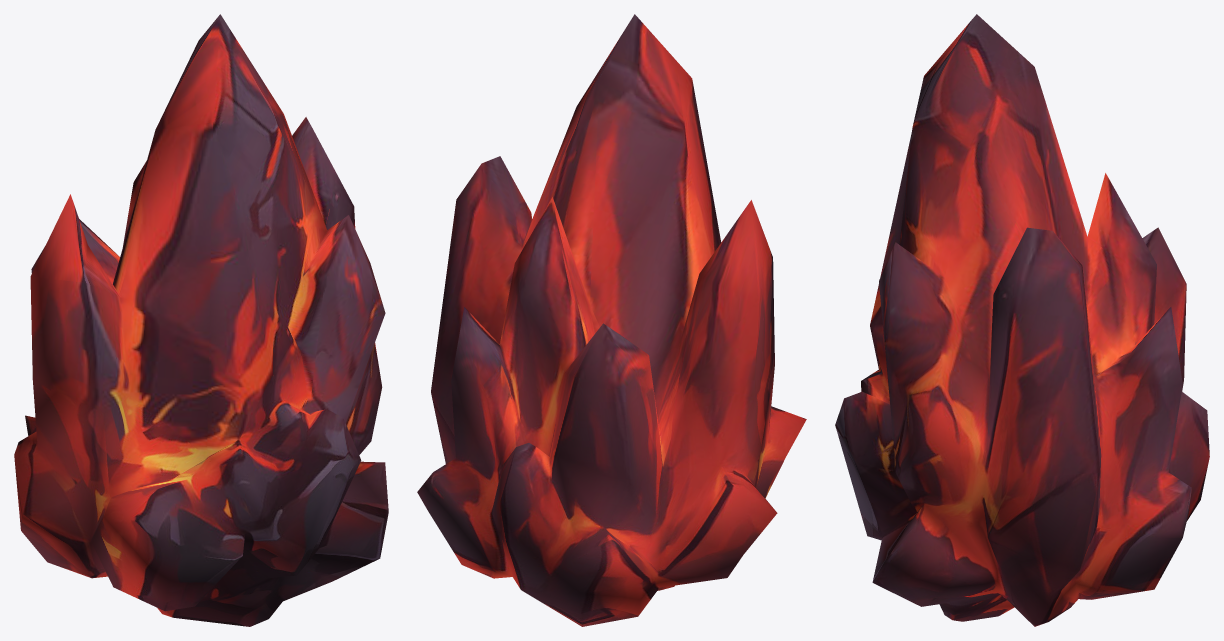
File: Cristal_de_Fuego.glb
3 renders of one model, left to right at view 1: azimuth 30°, elevation 25°; view 2: azimuth 150°, elevation 25°; view 3: azimuth 270°, elevation 25°, orthographic. The views are drawn at different scales.
Parts seen in each view (by area): view 1: tripo_node_350e5887-39a5-4733-b1f8-5bd3caf98694; view 2: tripo_node_350e5887-39a5-4733-b1f8-5bd3caf98694; view 3: tripo_node_350e5887-39a5-4733-b1f8-5bd3caf98694.
Boxes of the visible parts, x1,y1,x2,y2 form: tripo_node_350e5887-39a5-4733-b1f8-5bd3caf98694: (14,14,388,626); tripo_node_350e5887-39a5-4733-b1f8-5bd3caf98694: (417,14,806,626); tripo_node_350e5887-39a5-4733-b1f8-5bd3caf98694: (835,14,1209,626).
Bounding box in the file's own units: 0.5723 × 0.998 × 0.5684.
1 material, 1 textured.
